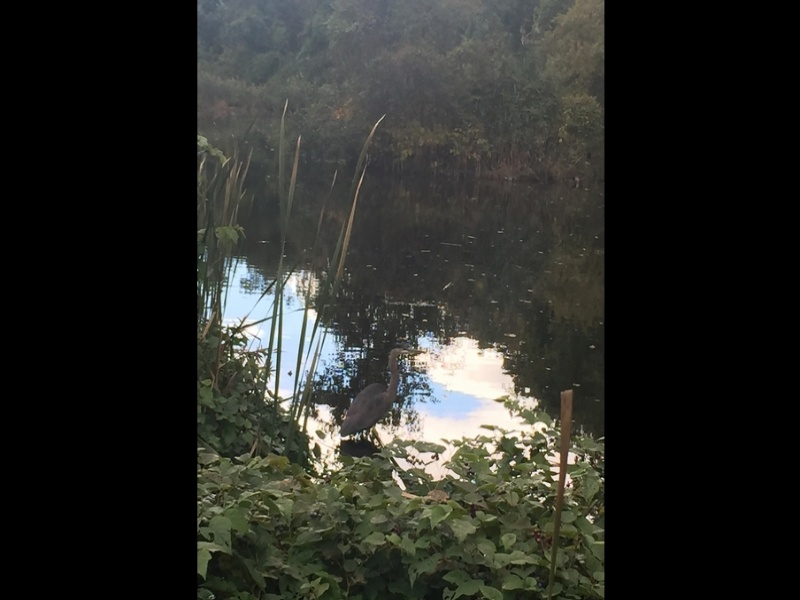heron: (334, 337, 423, 444)
